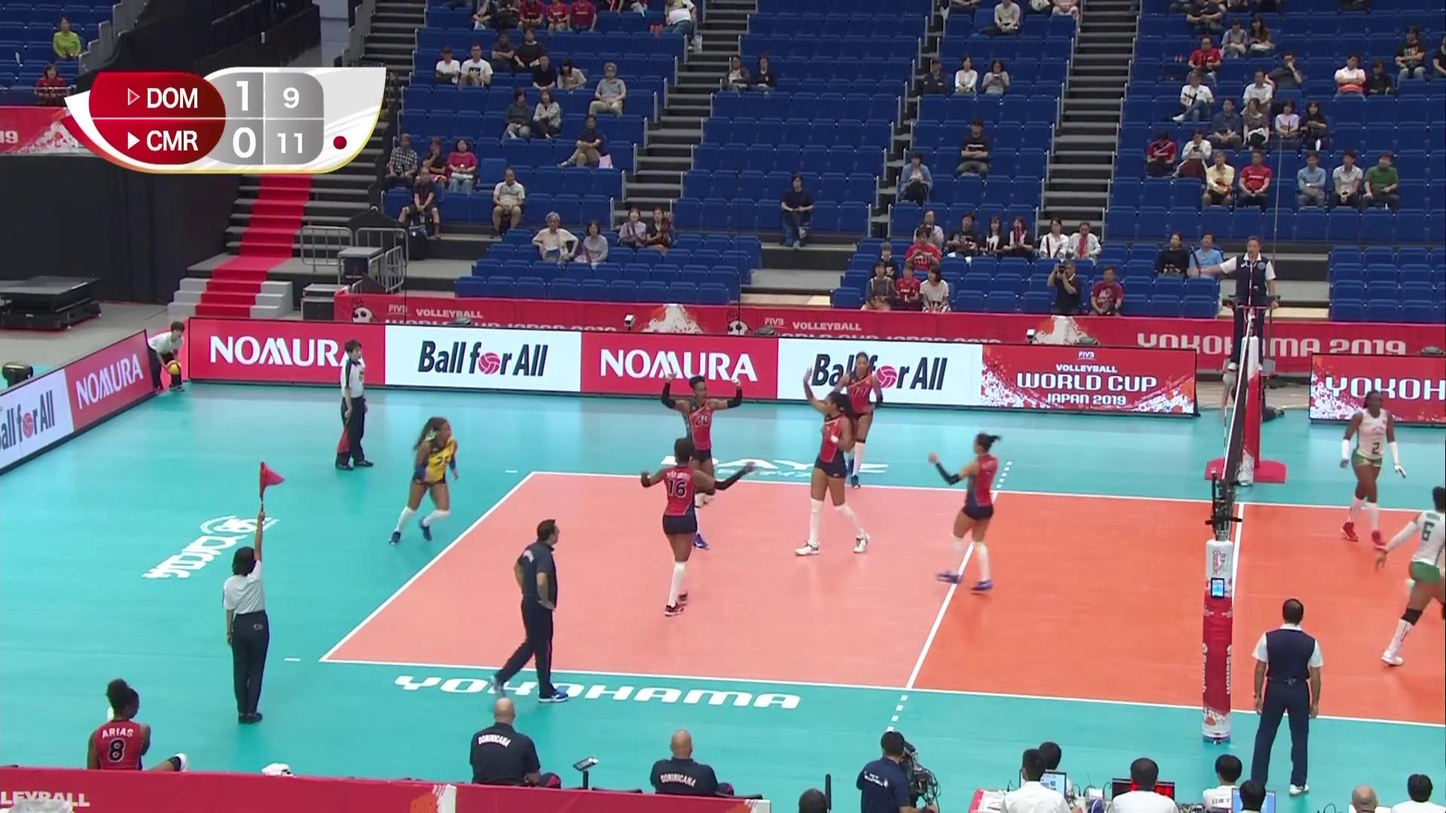player: (642, 442, 750, 613), (661, 374, 743, 544), (796, 375, 871, 554), (1380, 487, 1446, 669), (924, 434, 999, 592), (1339, 391, 1408, 549), (388, 417, 461, 543), (833, 351, 884, 491)
refree: (1252, 600, 1323, 795), (222, 507, 269, 723), (1210, 237, 1275, 373), (335, 340, 373, 473)
